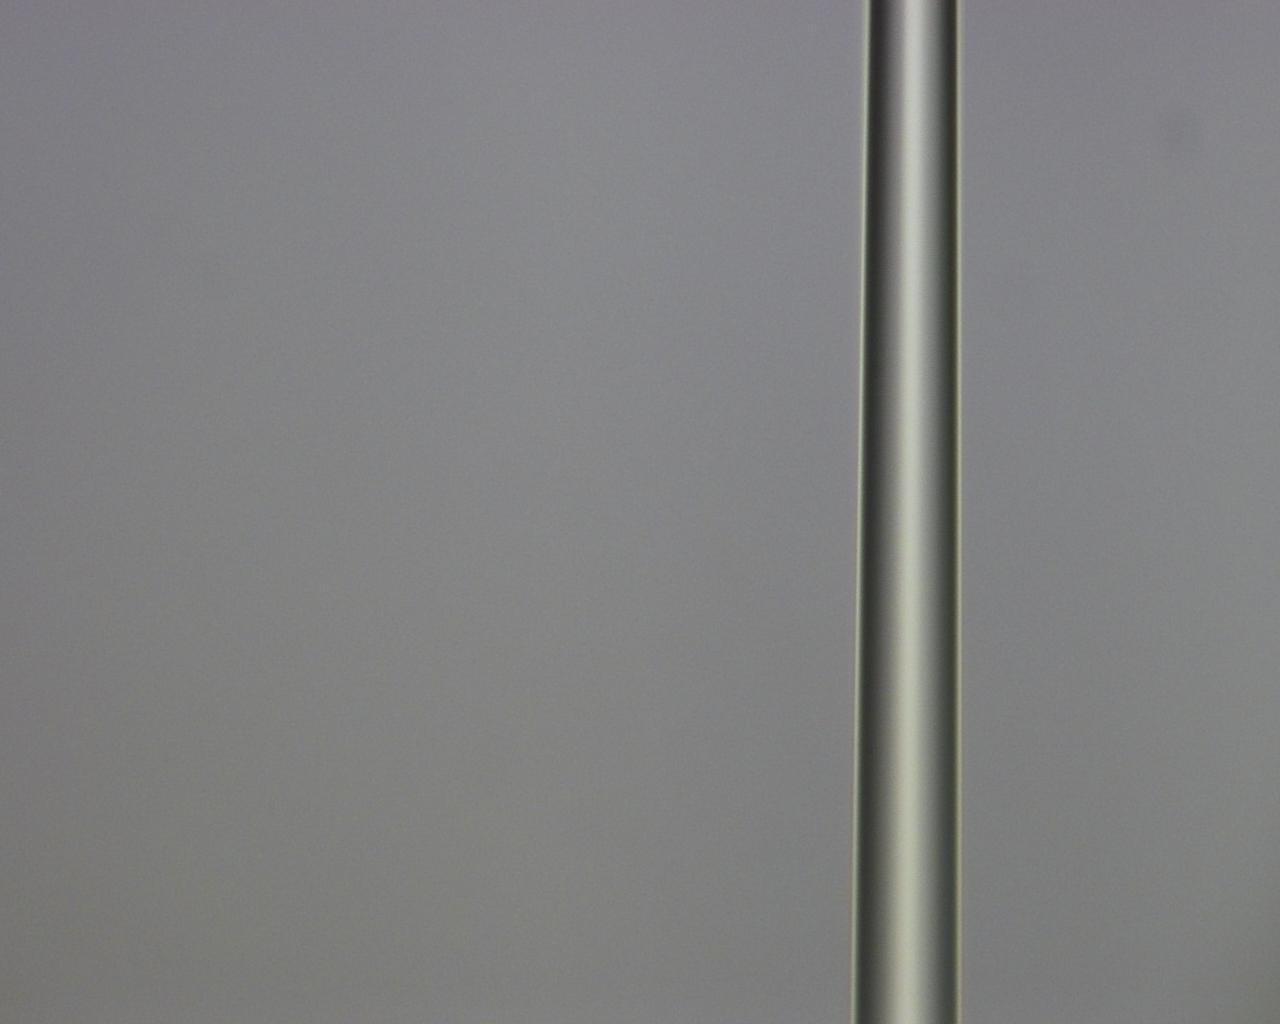fiber: (345, 645, 752, 1024), (781, 0, 1014, 491)
